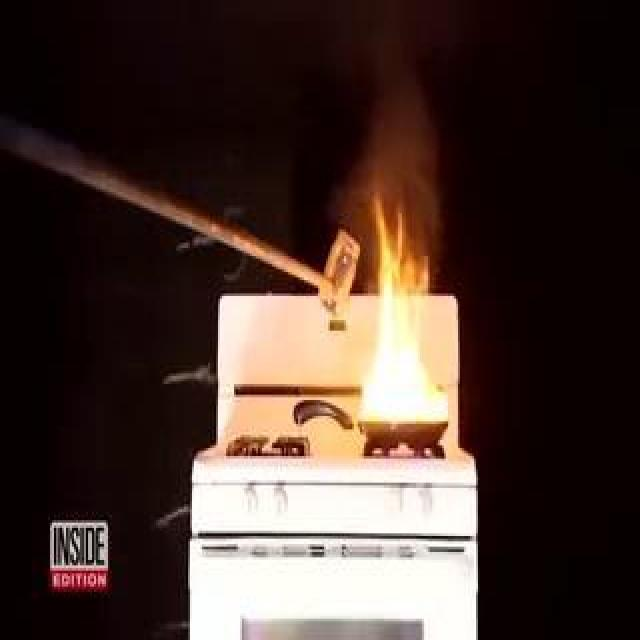Fire: (362, 207, 446, 427)
